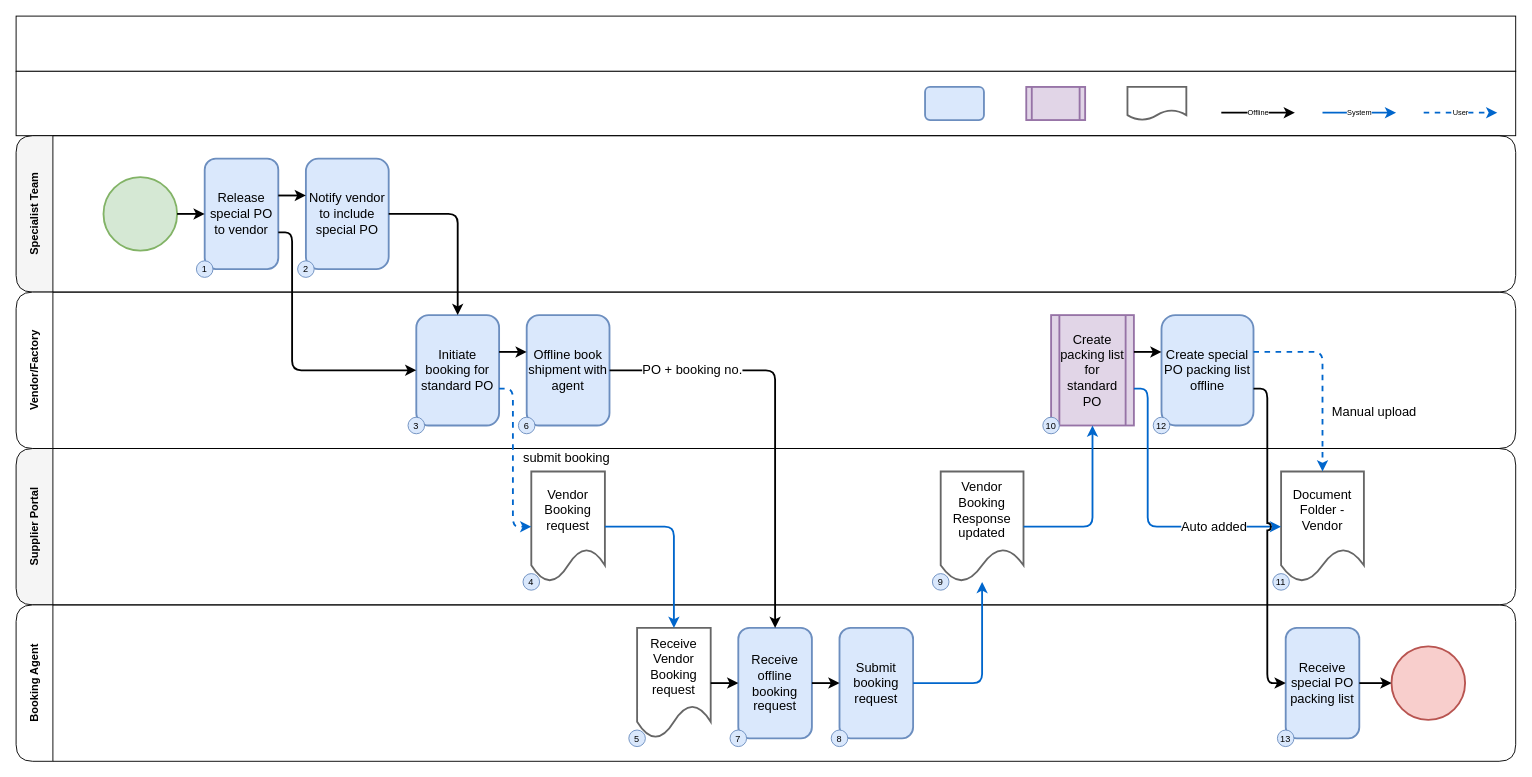
This 1532x777 diagram has some shape labels left out. The shapes that lost their labels are listed below. From the top down, each one's centre as x and y in pixels, then its label:
At (765,43): "SOP-003 – Ship a Special-Order PO with a Standard PO".
At (954,103): "Process".
At (1055,103): "Subprocess".
At (1156,103): "Document".
At (140,213): "Special PO raised".
At (1428,682): "Booking complete".
